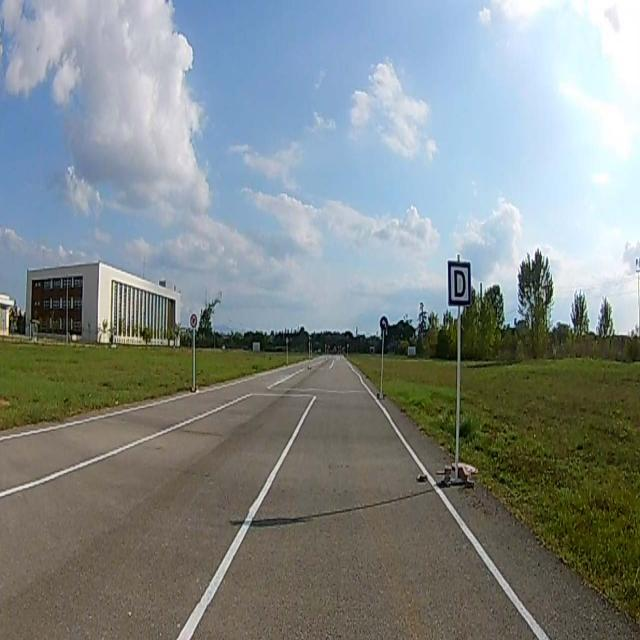durak: (450, 263, 472, 302)
sol: (378, 316, 388, 330)
